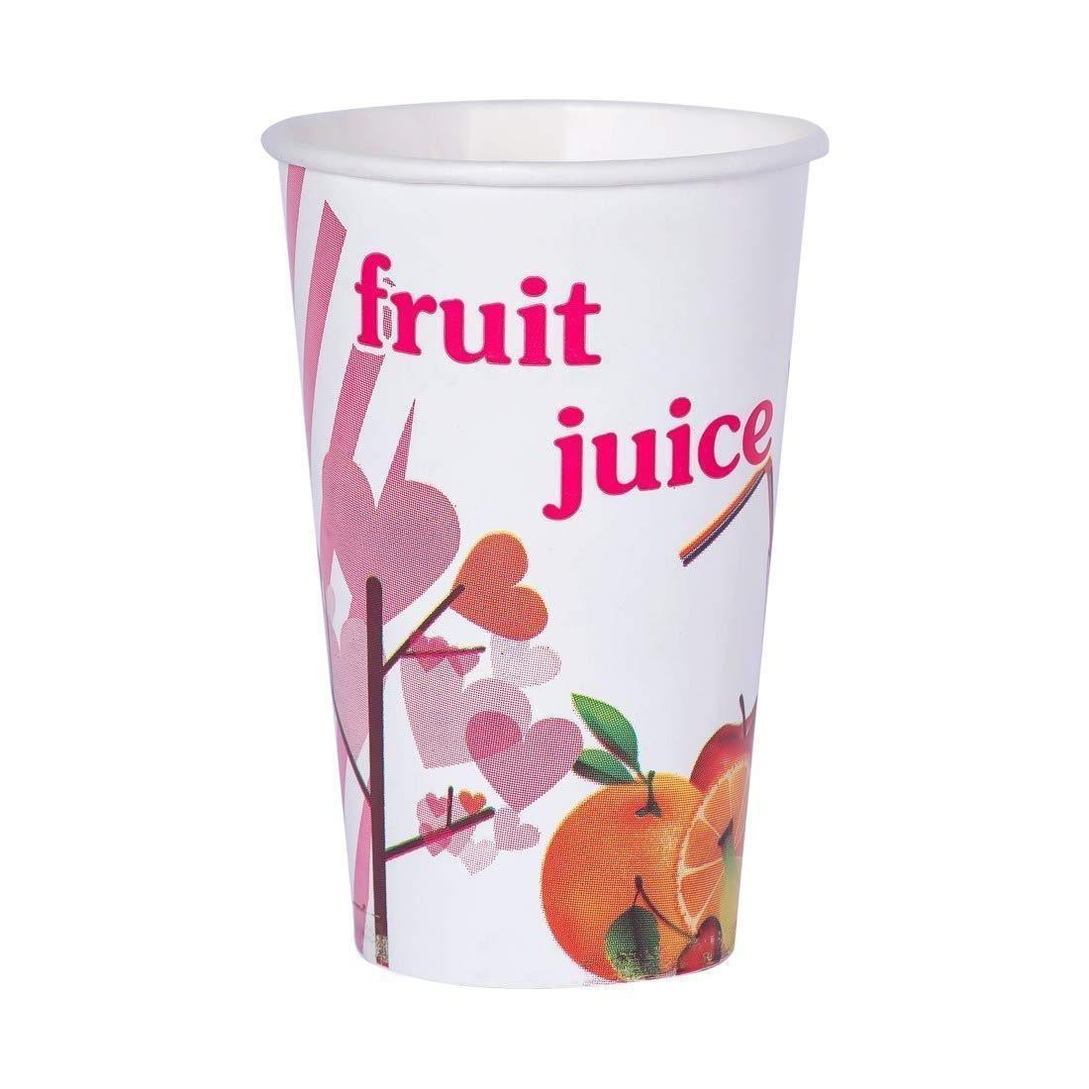cup-disposable: (261, 98, 834, 993)
